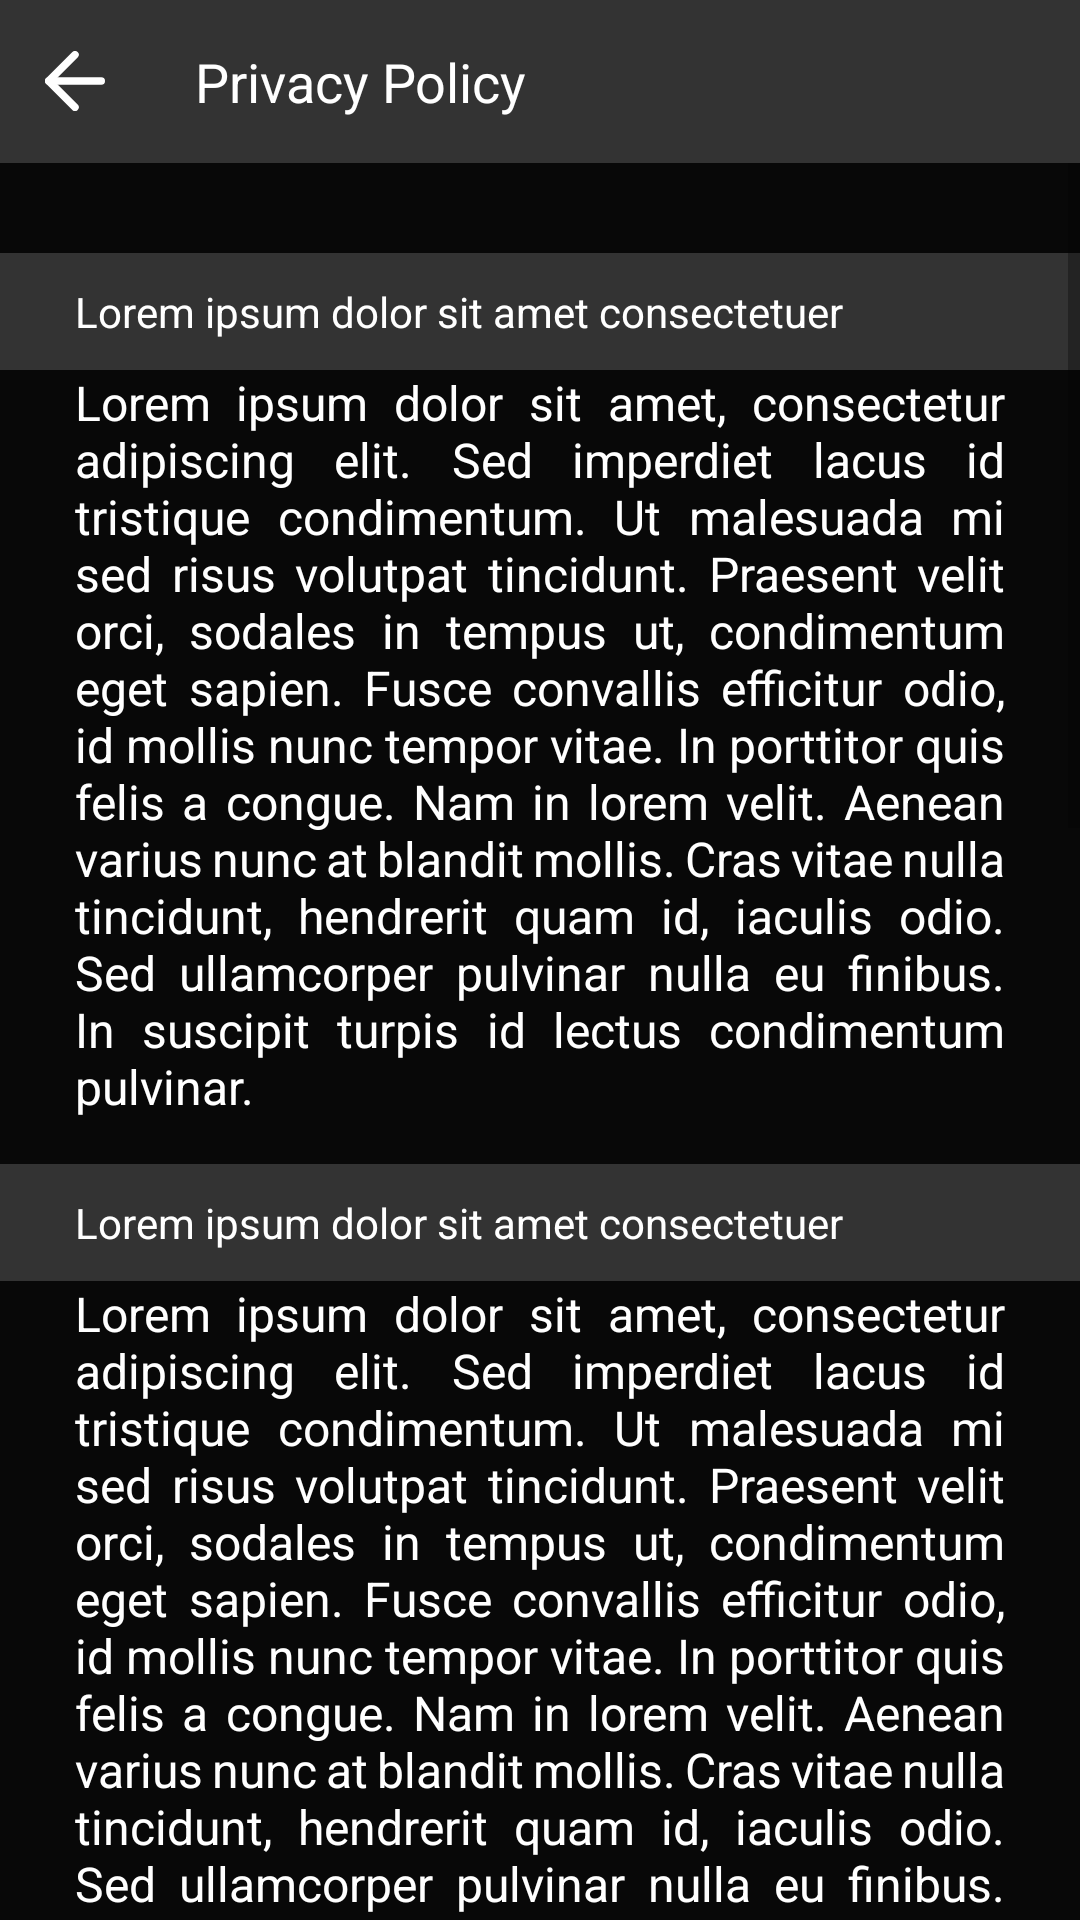

Screen size 1080px x 1920px. Icon name, then its center in pixels as (x,y):
back: (75,81)
